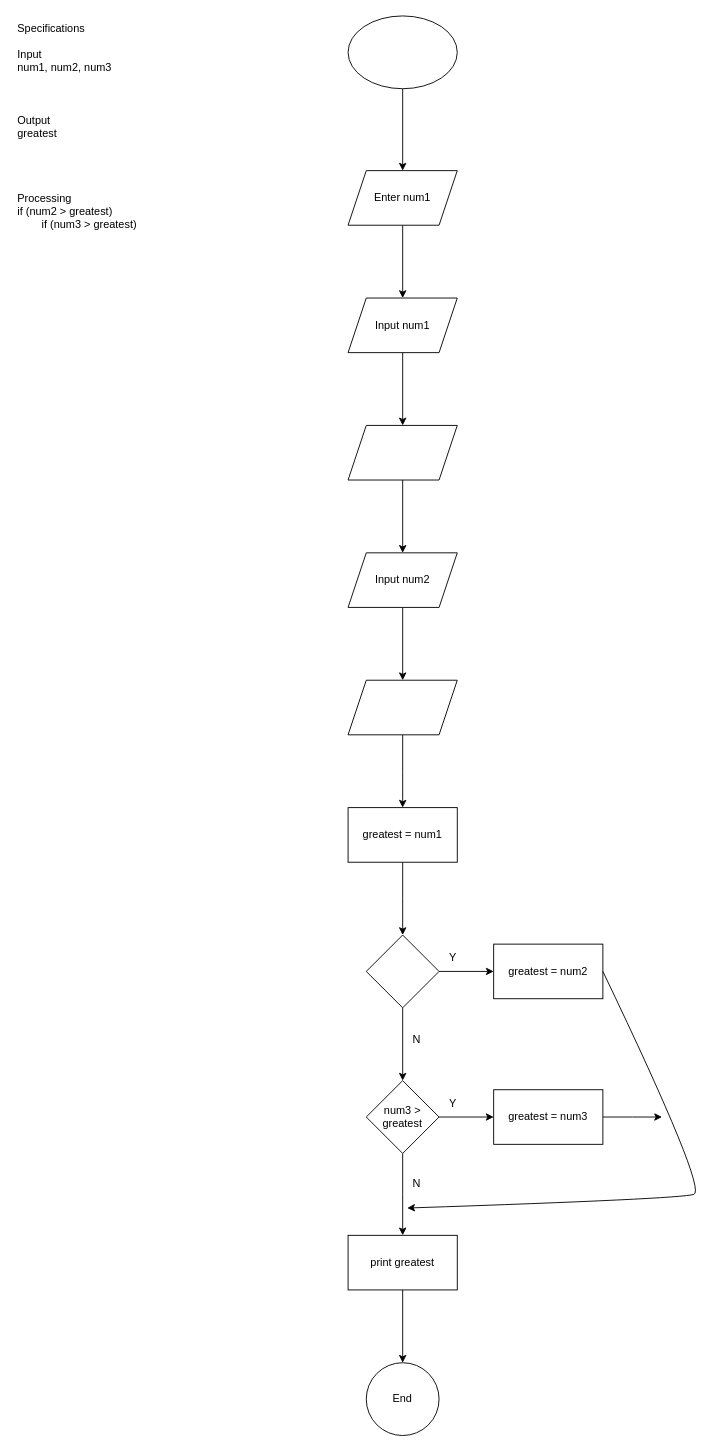
The diagram is 712 pixels wide and 1451 high, and some of its shapes have lost their labels. The centre of each missing label's shape, as x and y in pixels:
"Enter num2" belongs at [402,452].
"Enter num3" belongs at [402,707].
"num2 > greatest" belongs at [402,971].
"Start" belongs at [402,52].
